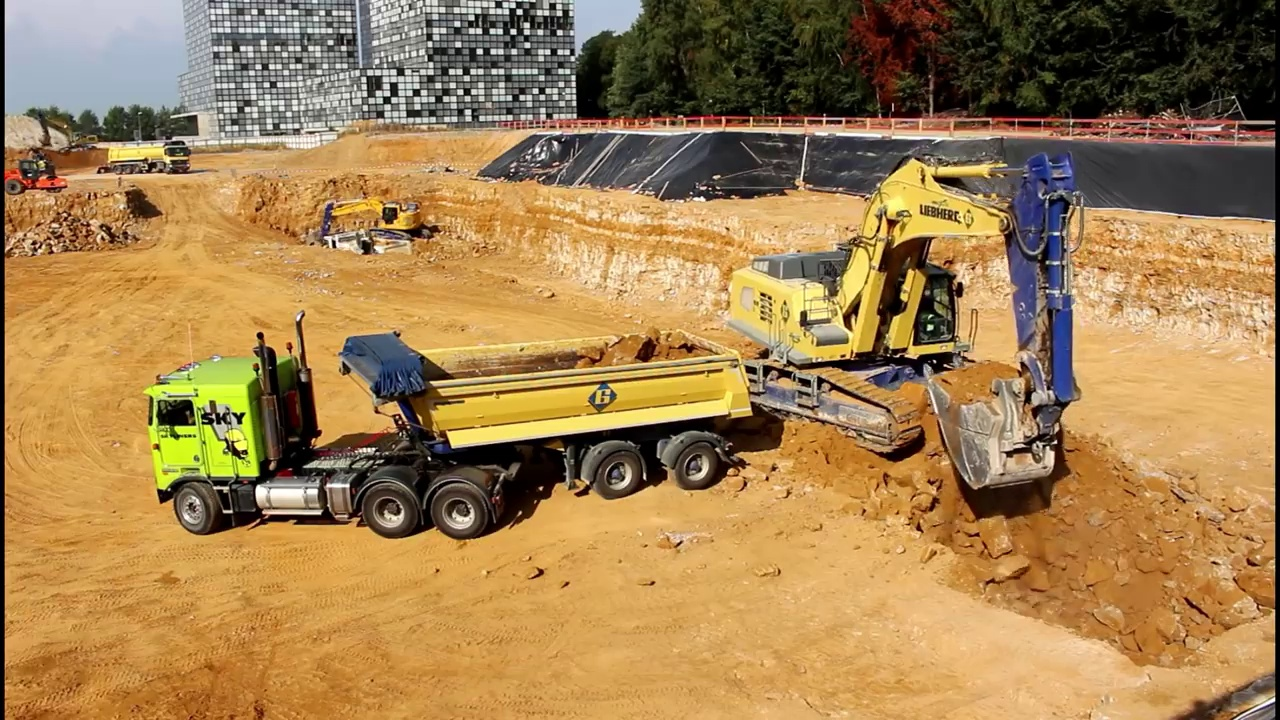compactor: (6, 154, 71, 196)
excavator: (712, 147, 1087, 502), (306, 190, 437, 248), (35, 110, 104, 162)
truck: (139, 306, 760, 544), (322, 227, 423, 282), (95, 134, 198, 179)
